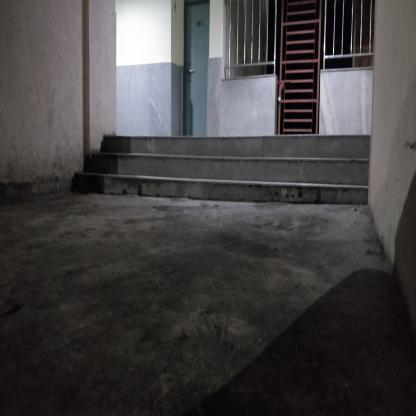stairs: (107, 134, 368, 208)
